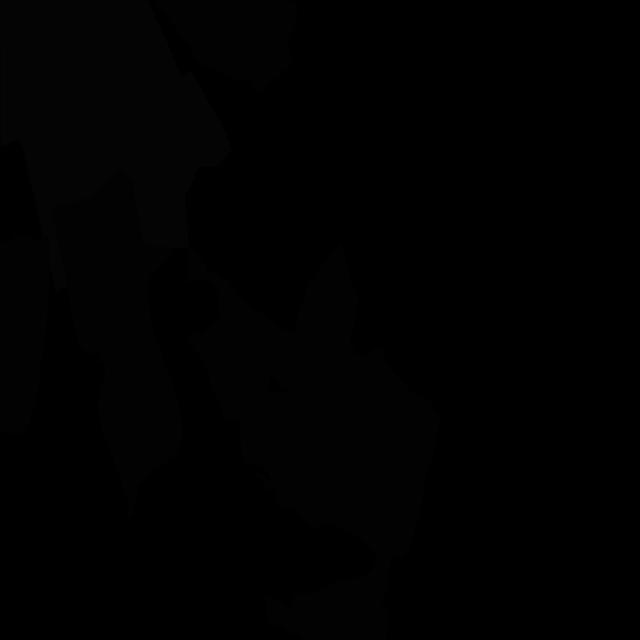cardboard: (250, 338, 441, 640), (52, 169, 183, 519), (186, 242, 359, 465), (154, 0, 297, 94), (0, 233, 50, 435)
soft_plastic: (0, 0, 232, 294)
